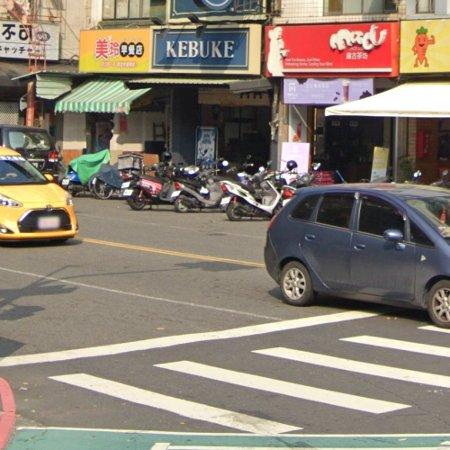taxis: (0, 146, 78, 242)
